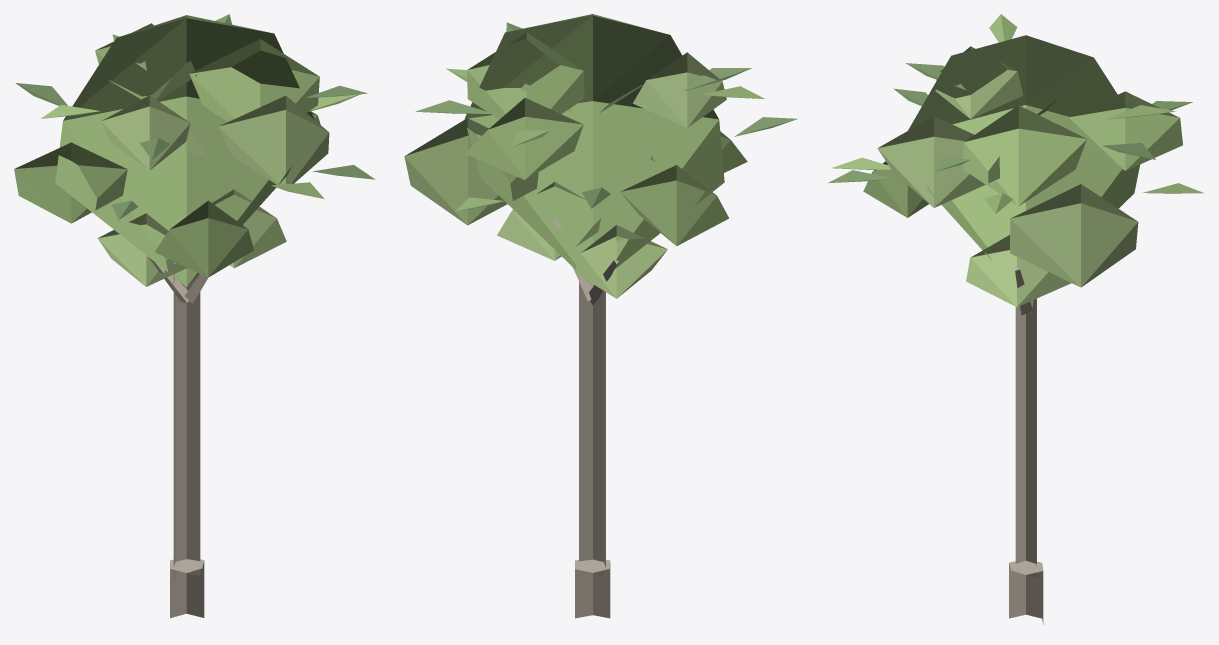
The model's file is shu.baigan__spring.glb.
3 views of the same model, side by side, from view 1: azimuth 30°, elevation 25°; view 2: azimuth 150°, elevation 25°; view 3: azimuth 270°, elevation 25° (orthographic). The views are drawn at different scales.
Parts seen in each view (by area): view 1: shu.baigan__spring; view 2: shu.baigan__spring; view 3: shu.baigan__spring.
Part boxes in pixels (x1,y1,x2,y2): shu.baigan__spring: (14, 14, 375, 618); shu.baigan__spring: (404, 14, 797, 618); shu.baigan__spring: (828, 14, 1203, 624).
Size of the model in its own units: 8.39 by 15.12 by 8.8.
